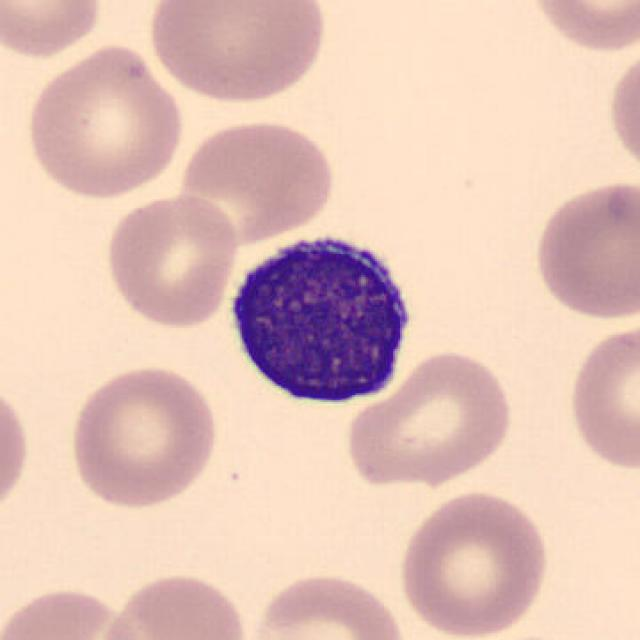Lymphocyte: (217, 220, 423, 414)
RBC: (21, 39, 187, 203), (342, 346, 518, 490), (395, 486, 553, 640), (64, 362, 222, 512), (174, 115, 338, 246), (142, 0, 334, 108), (103, 188, 242, 332), (528, 175, 638, 322), (245, 567, 412, 640), (564, 317, 638, 476), (94, 567, 252, 640), (0, 582, 146, 640), (0, 0, 105, 62), (523, 0, 638, 55), (604, 42, 640, 182), (0, 378, 32, 526)
